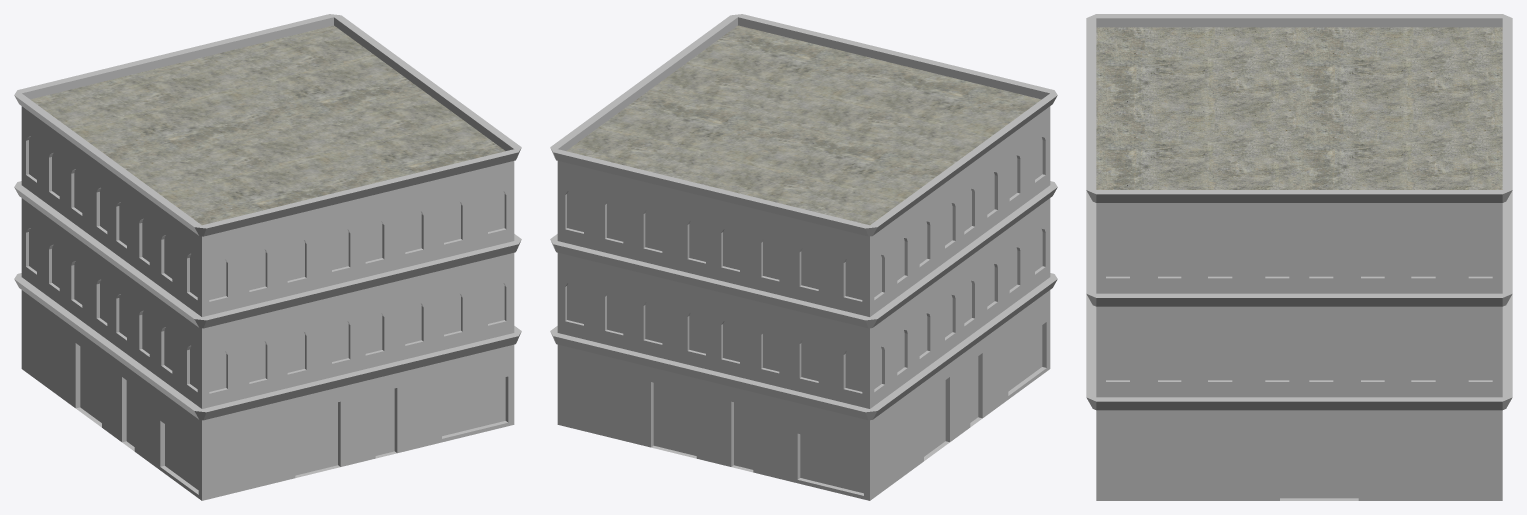
The model's file is DT_Building_Type_05_05.fbx.
3 views of the same model, side by side, from view 1: azimuth 30°, elevation 25°; view 2: azimuth 150°, elevation 25°; view 3: azimuth 270°, elevation 25° (orthographic). The views are drawn at different scales.
Visible parts, largest first — view 1: DT_Building_Type_05_05; view 2: DT_Building_Type_05_05; view 3: DT_Building_Type_05_05.
Part boxes in pixels (left/top/right/bottom): DT_Building_Type_05_05: left=14, top=14, right=521, bottom=500; DT_Building_Type_05_05: left=550, top=14, right=1057, bottom=500; DT_Building_Type_05_05: left=1086, top=14, right=1512, bottom=500.
Bounding box in the file's own units: 1074 × 864 × 1074.
